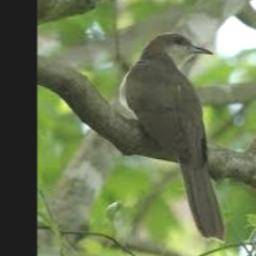Cuckoo: (119, 32, 225, 242)
